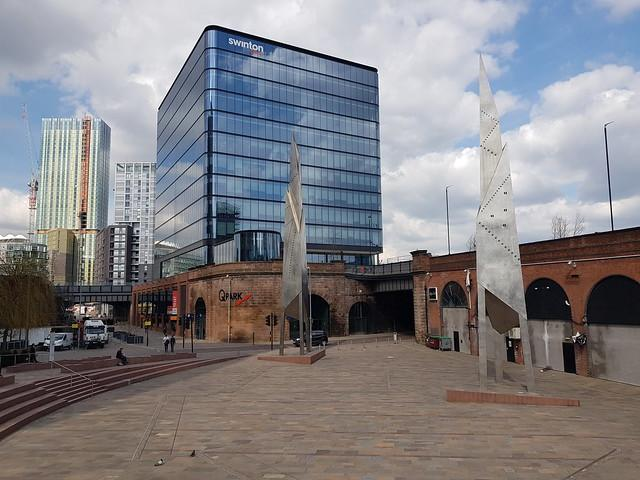building: (146, 22, 388, 294), (37, 112, 108, 282)
